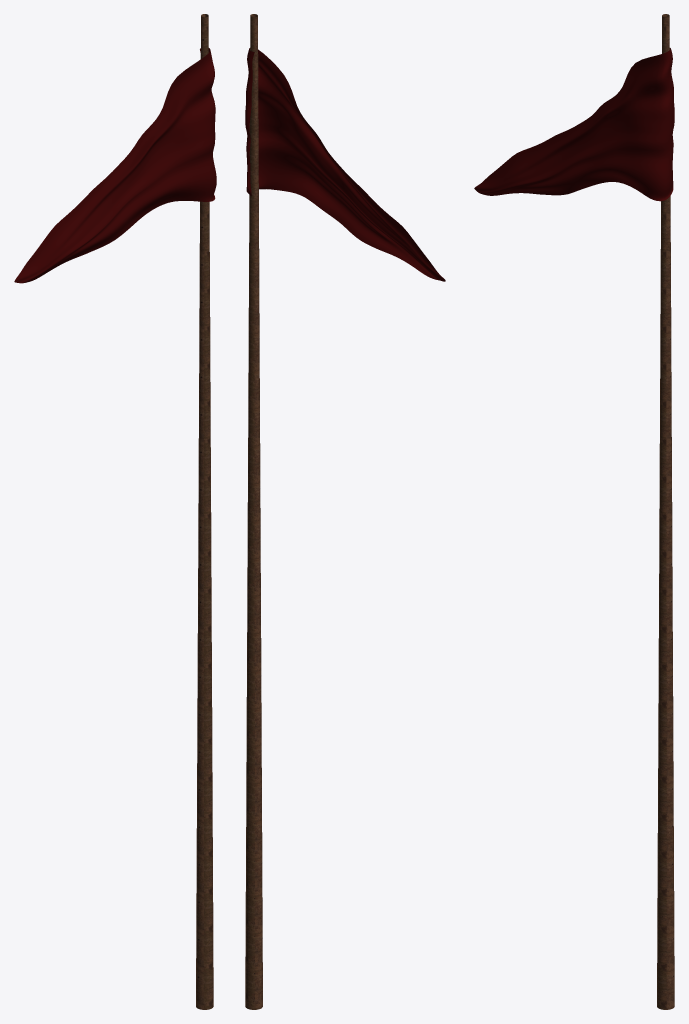
Rendered from objFlag.obj.
3 renders of one model, left to right at view 1: azimuth 30°, elevation 25°; view 2: azimuth 150°, elevation 25°; view 3: azimuth 330°, elevation 25°, orthographic.
Visible parts, largest first — view 1: flag flag, poll flag; view 2: poll flag, flag flag; view 3: flag flag, poll flag.
Part boxes in pixels (<box>): flag flag: <box>14,48,216,283</box>; poll flag: <box>196,14,213,1009</box>; poll flag: <box>245,14,262,1009</box>; flag flag: <box>245,48,445,281</box>; flag flag: <box>474,48,674,201</box>; poll flag: <box>657,14,674,1009</box>.
Bounding box in the file's own units: 0.5316 × 2.53 × 0.0765.
Materials: 2 (1 with a texture image).
